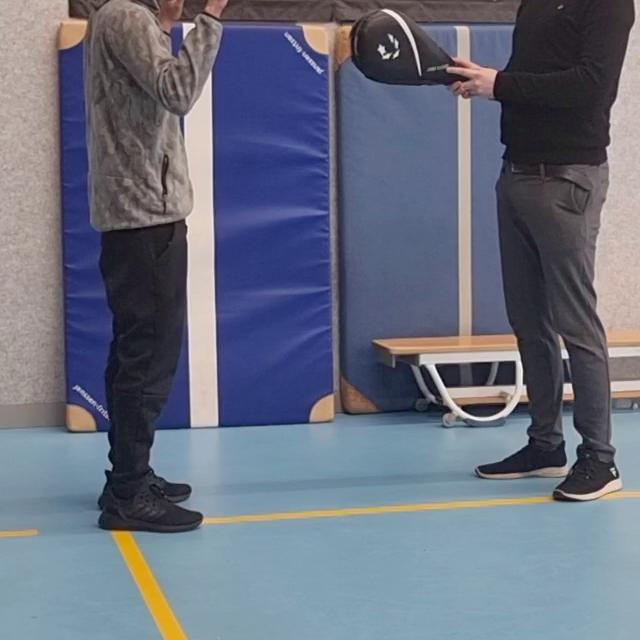paddle: (349, 10, 468, 86)
